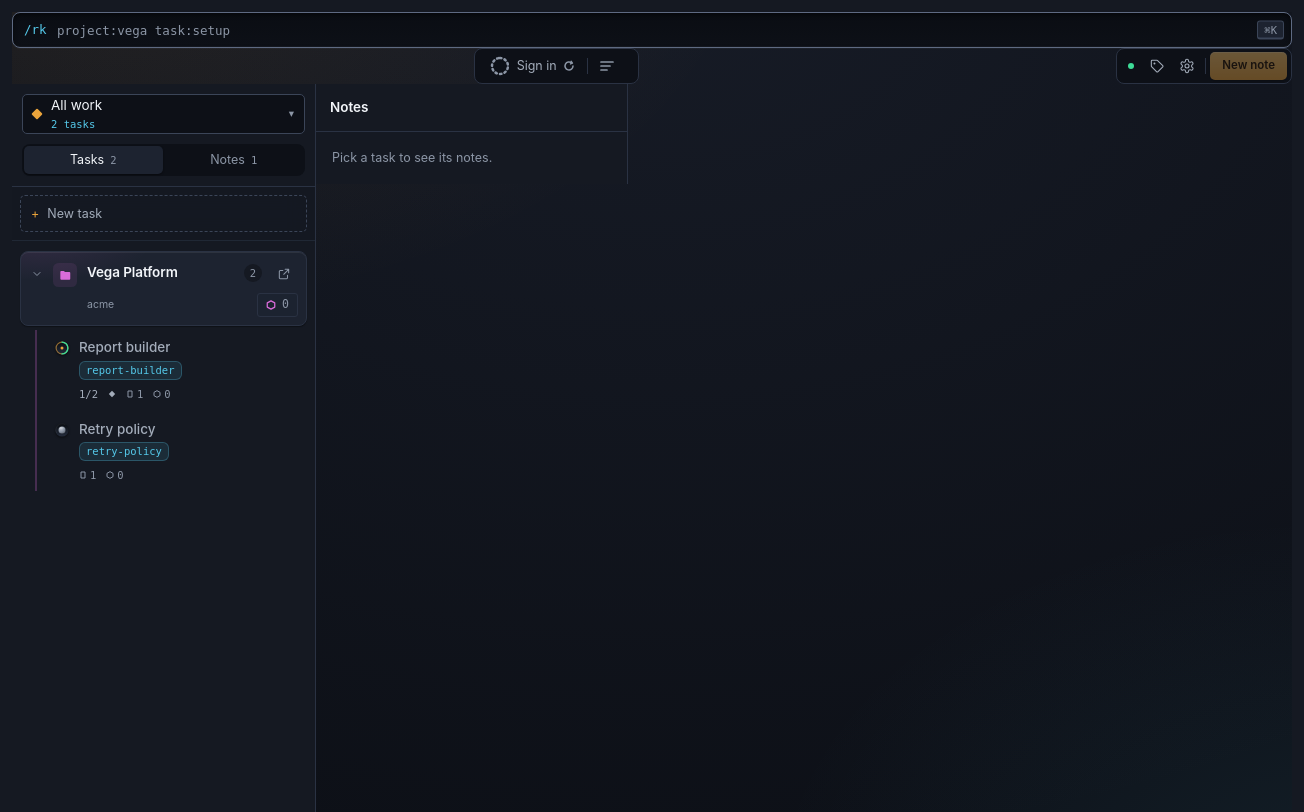
Test: the console › filters the task list as the anchor bar is typed into
Step 1. Type "retry" into the field with test id "anchor-input" → (652, 30), box [12,12,1292,48]
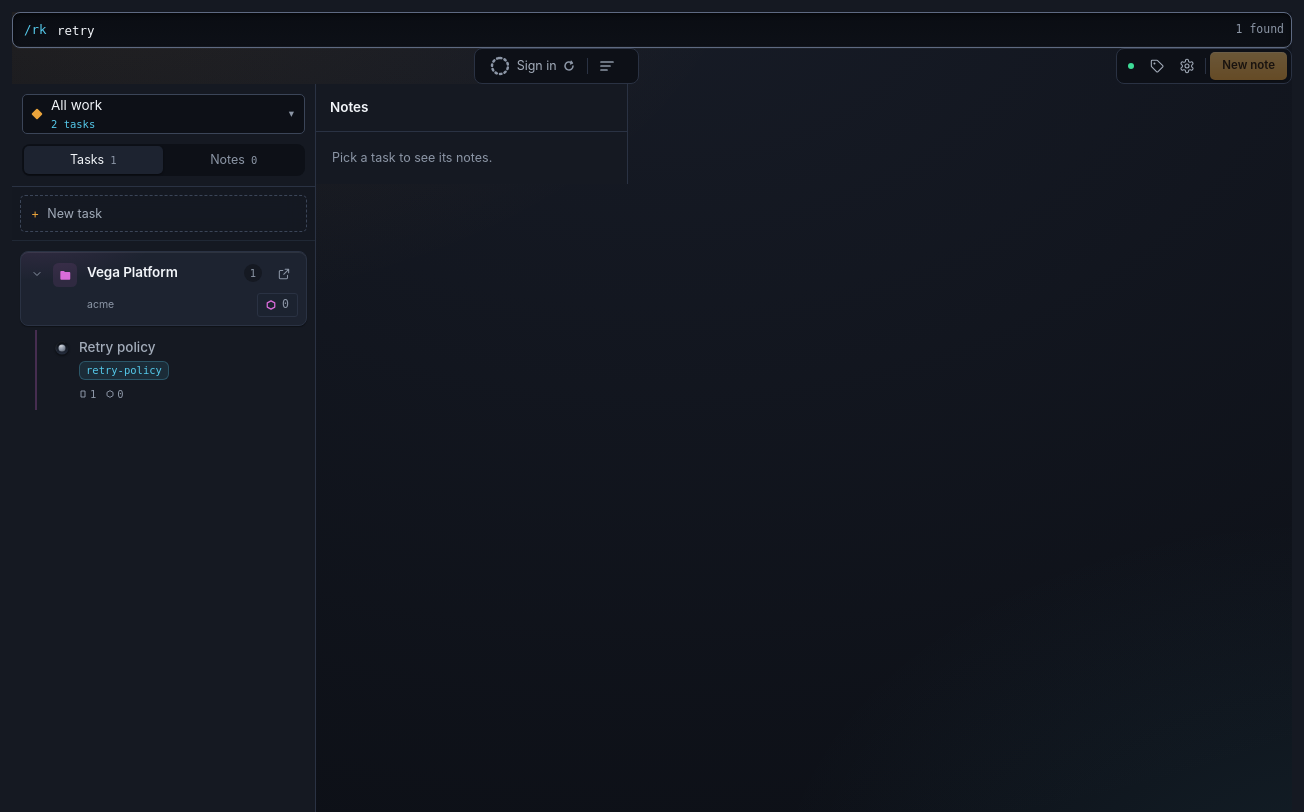
Expected: the button with test id "task-row" shows "Retry policy", [45,330,307,410]
Expected: the number of buttons with test id "task-row" is 1, [45,330,307,410]
